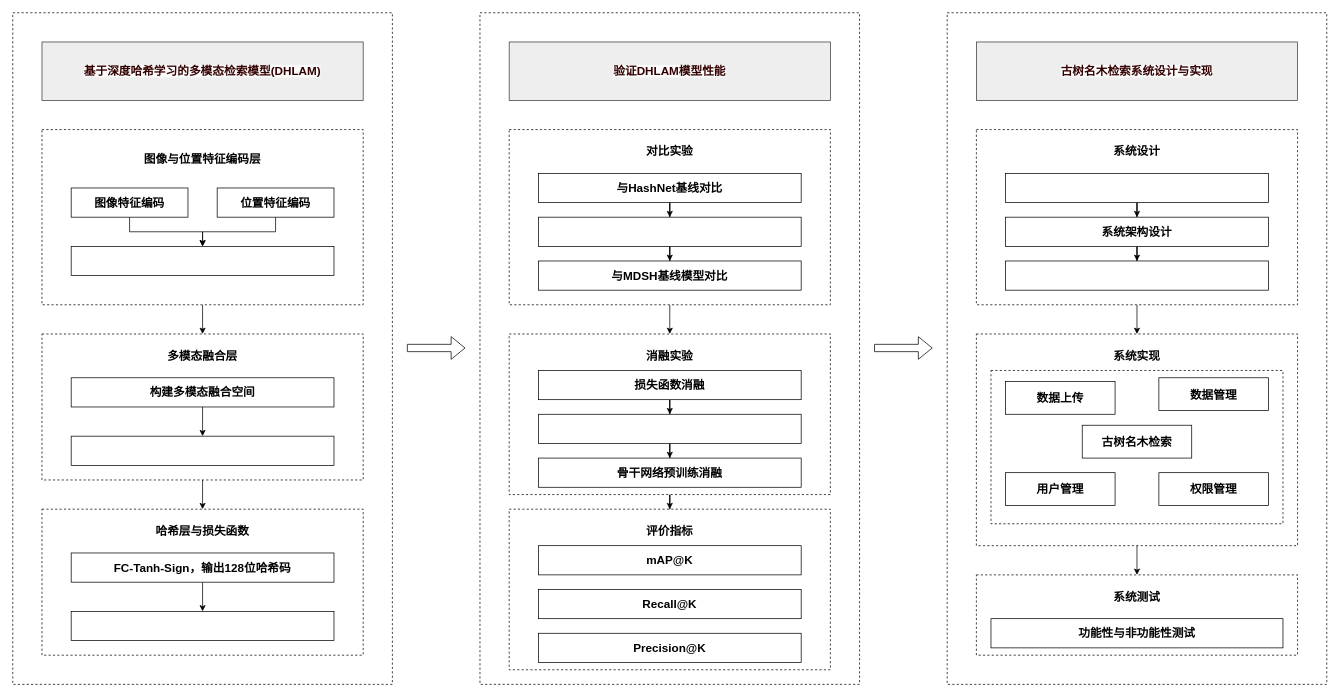
The diagram is 1340 pixels wide and 697 high, and some of its shapes have lost their labels. Each missing label, with the box of its shape:
三损失联合优化 Triplet Loss + Contrastive Loss + Quantization Loss: (70, 611, 334, 641)
与DCH基线模型对比: (538, 216, 801, 246)
使用全连接层，分别进行向量维度调整: (70, 246, 334, 276)
多模态特征融合: (70, 435, 334, 465)
系统详细设计与数据库设计: (1005, 260, 1268, 290)
系统需求设计: (1005, 173, 1268, 203)
难例挖掘消融: (538, 414, 801, 443)
